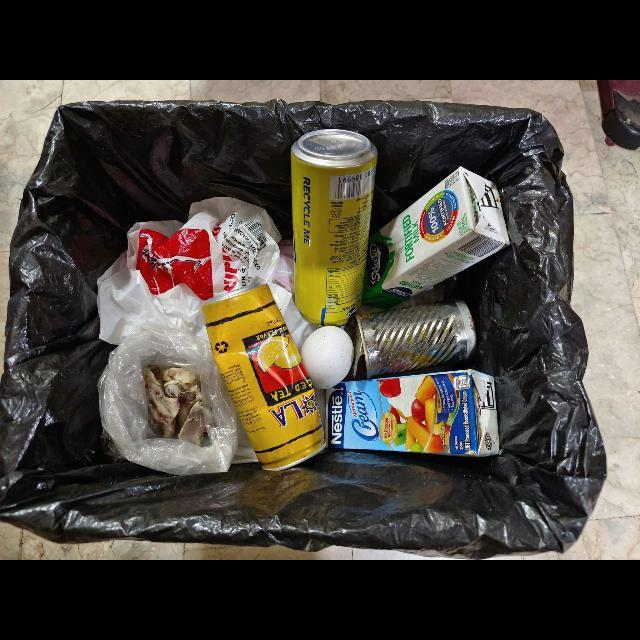aluminum: (201, 283, 326, 472), (289, 129, 378, 329), (353, 300, 477, 380)
left_over_food: (143, 365, 206, 447)
plastic_bag: (97, 197, 294, 345), (97, 321, 241, 477)
